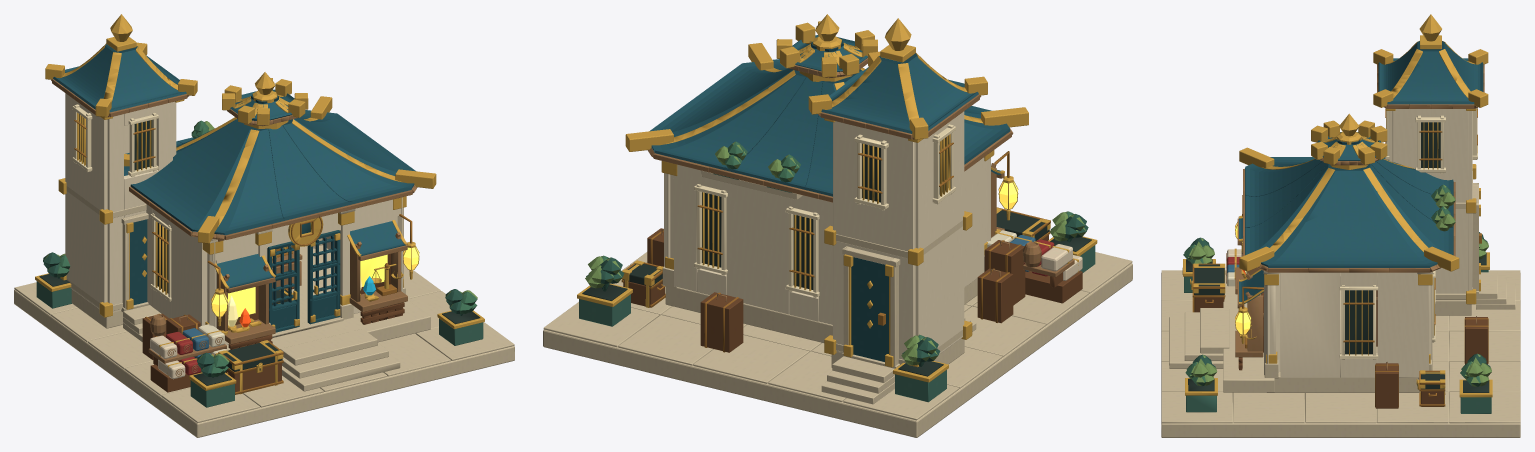
Rendered from treasure-lod0-a91381cc7a7f.glb.
The picture shows the model from 3 angles, left to right: view 1: azimuth 30°, elevation 25°; view 2: azimuth 150°, elevation 25°; view 3: azimuth 270°, elevation 25°; orthographic projection. The views are drawn at different scales.
Parts seen in each view (by area): view 1: RFbatch_0.026, RFbatch_36.026, RFbatch_9.026, RFbatch_39.026, RFbatch_12.026, RFbatch_41.026, RFbatch_48.026, RFbatch_61.026, RFbatch_20.026, RFbatch_75.026, RFbatch_50.026, RFbatch_40.026 (+5 smaller); view 2: RFbatch_0.026, RFbatch_9.026, RFbatch_36.026, RFbatch_39.026, RFbatch_48.026, RFbatch_61.026, RFbatch_20.026, RFbatch_12.026, RFbatch_41.026, RFbatch_75.026, RFbatch_40.026, RFbatch_79.022 (+4 smaller); view 3: RFbatch_0.026, RFbatch_36.026, RFbatch_9.026, RFbatch_39.026, RFbatch_61.026, RFbatch_12.026, RFbatch_48.026, RFbatch_20.026, RFbatch_79.022, RFbatch_40.026, RFbatch_75.026, RFbatch_78.026 (+2 smaller).
Part boxes in pixels (x1=…): RFbatch_0.026: x1=14, y1=186, x2=514, y2=437; RFbatch_36.026: x1=53, y1=46, x2=415, y2=288; RFbatch_9.026: x1=65, y1=93, x2=403, y2=344; RFbatch_39.026: x1=35, y1=14, x2=484, y2=394; RFbatch_12.026: x1=51, y1=79, x2=417, y2=376; RFbatch_41.026: x1=130, y1=219, x2=340, y2=332; RFbatch_48.026: x1=142, y1=248, x2=404, y2=392; RFbatch_61.026: x1=39, y1=114, x2=480, y2=385; RFbatch_20.026: x1=72, y1=104, x2=171, y2=301; RFbatch_75.026: x1=36, y1=281, x2=483, y2=407; RFbatch_50.026: x1=211, y1=247, x2=419, y2=317; RFbatch_40.026: x1=74, y1=120, x2=412, y2=394; RFbatch_0.026: x1=543, y1=170, x2=1132, y2=437; RFbatch_9.026: x1=664, y1=111, x2=990, y2=359; RFbatch_36.026: x1=649, y1=35, x2=1010, y2=196; RFbatch_39.026: x1=577, y1=14, x2=1097, y2=382; RFbatch_48.026: x1=623, y1=228, x2=1082, y2=352; RFbatch_61.026: x1=582, y1=136, x2=1091, y2=376; RFbatch_20.026: x1=694, y1=124, x2=955, y2=297; RFbatch_12.026: x1=647, y1=58, x2=1074, y2=301; RFbatch_41.026: x1=851, y1=257, x2=888, y2=361; RFbatch_75.026: x1=579, y1=173, x2=1095, y2=402; RFbatch_40.026: x1=621, y1=142, x2=1050, y2=352; RFbatch_79.022: x1=585, y1=141, x2=1086, y2=365; RFbatch_0.026: x1=1161, y1=171, x2=1520, y2=437; RFbatch_36.026: x1=1239, y1=42, x2=1483, y2=303; RFbatch_9.026: x1=1264, y1=109, x2=1472, y2=377; RFbatch_39.026: x1=1182, y1=14, x2=1492, y2=403; RFbatch_61.026: x1=1186, y1=122, x2=1489, y2=392; RFbatch_12.026: x1=1226, y1=64, x2=1484, y2=370; RFbatch_48.026: x1=1194, y1=290, x2=1487, y2=408; RFbatch_20.026: x1=1339, y1=107, x2=1477, y2=359; RFbatch_79.022: x1=1188, y1=185, x2=1491, y2=386; RFbatch_40.026: x1=1192, y1=109, x2=1488, y2=407; RFbatch_75.026: x1=1184, y1=270, x2=1491, y2=413; RFbatch_78.026: x1=1183, y1=184, x2=1480, y2=386.
Bounding box in the file's own units: 10 × 9.27 × 10.
Materials: 23 (14 with a texture image).
